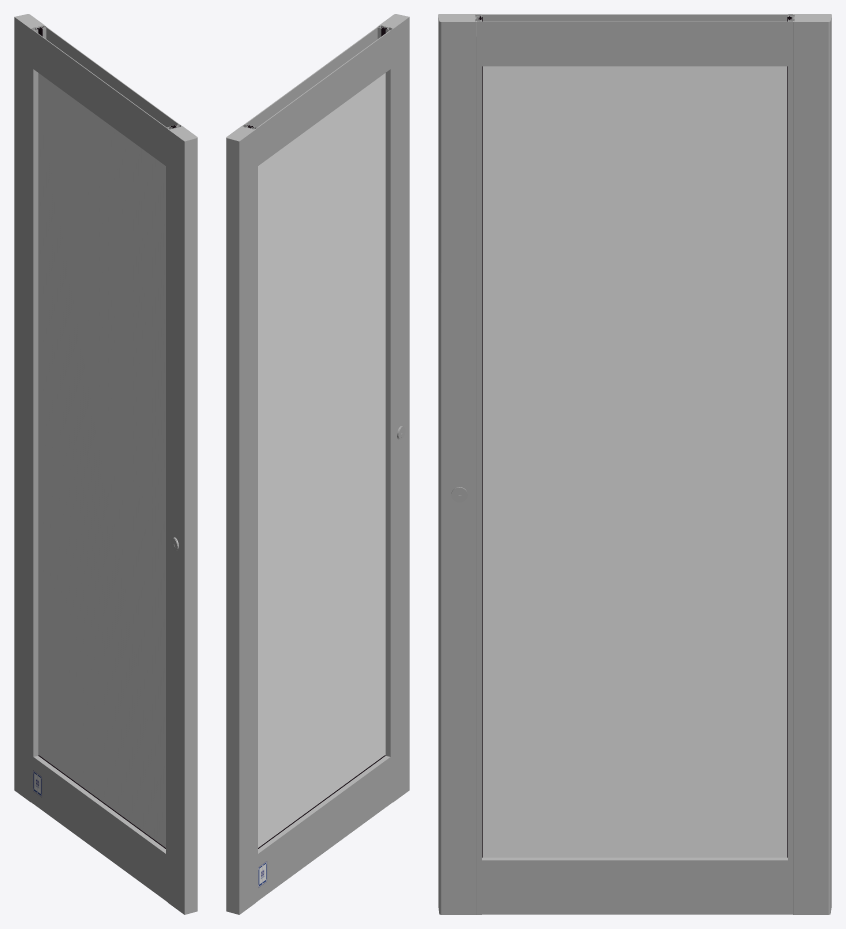
File: D350_Slab.glb
3 views of the same model, side by side, from view 1: azimuth 30°, elevation 25°; view 2: azimuth 150°, elevation 25°; view 3: azimuth 270°, elevation 25° (orthographic). The views are drawn at different scales.
Visible parts, largest first — view 1: Cube.010, PROFILE_curve_.063, D350, PROFILE_curve_.061, PROFILE_curve_.062; view 2: Cube.010, D350, PROFILE_curve_.063, PROFILE_curve_.061, PROFILE_curve_.062; view 3: Cube.010, D350, PROFILE_curve_.063, PROFILE_curve_.062, PROFILE_curve_.061, rubber_curve_.061, rubber_curve_.063.
Part boxes in pixels (x1,y1,x2,y2): Cube.010: (38, 73, 165, 847); PROFILE_curve_.063: (166, 124, 197, 914); D350: (14, 14, 46, 803); PROFILE_curve_.061: (33, 27, 178, 165); PROFILE_curve_.062: (33, 756, 165, 900); Cube.010: (258, 73, 385, 847); D350: (226, 124, 257, 914); PROFILE_curve_.063: (377, 14, 409, 803); PROFILE_curve_.061: (245, 27, 390, 165); PROFILE_curve_.062: (258, 756, 390, 900); Cube.010: (482, 66, 787, 857); D350: (788, 14, 831, 914); PROFILE_curve_.063: (438, 14, 481, 914); PROFILE_curve_.062: (482, 857, 787, 914); PROFILE_curve_.061: (482, 14, 787, 66); rubber_curve_.061: (478, 18, 482, 857); rubber_curve_.063: (787, 18, 791, 857).
Bounding box in the file's own units: 0.054 × 2.29 × 0.9149.
5 materials, 1 textured.
